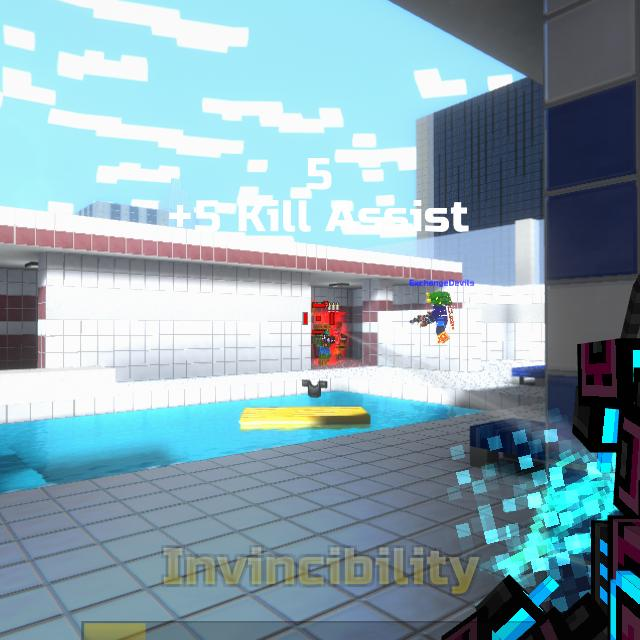Enemy: (312, 323, 337, 366)
